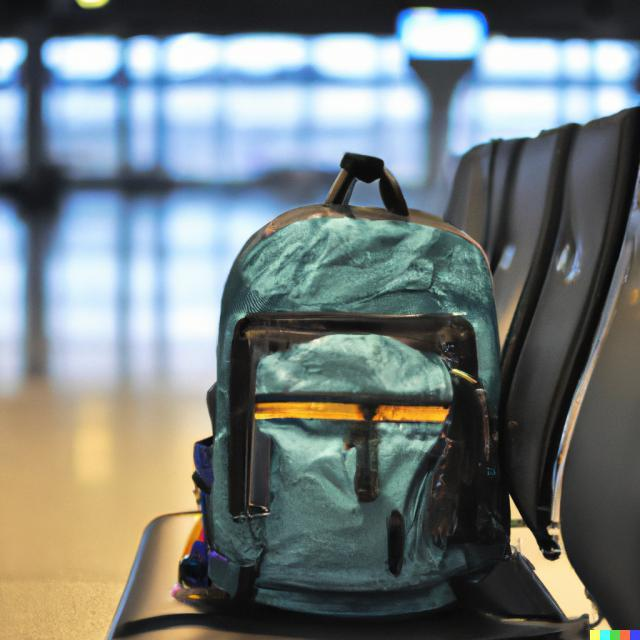Backpacks: (176, 146, 526, 640)
